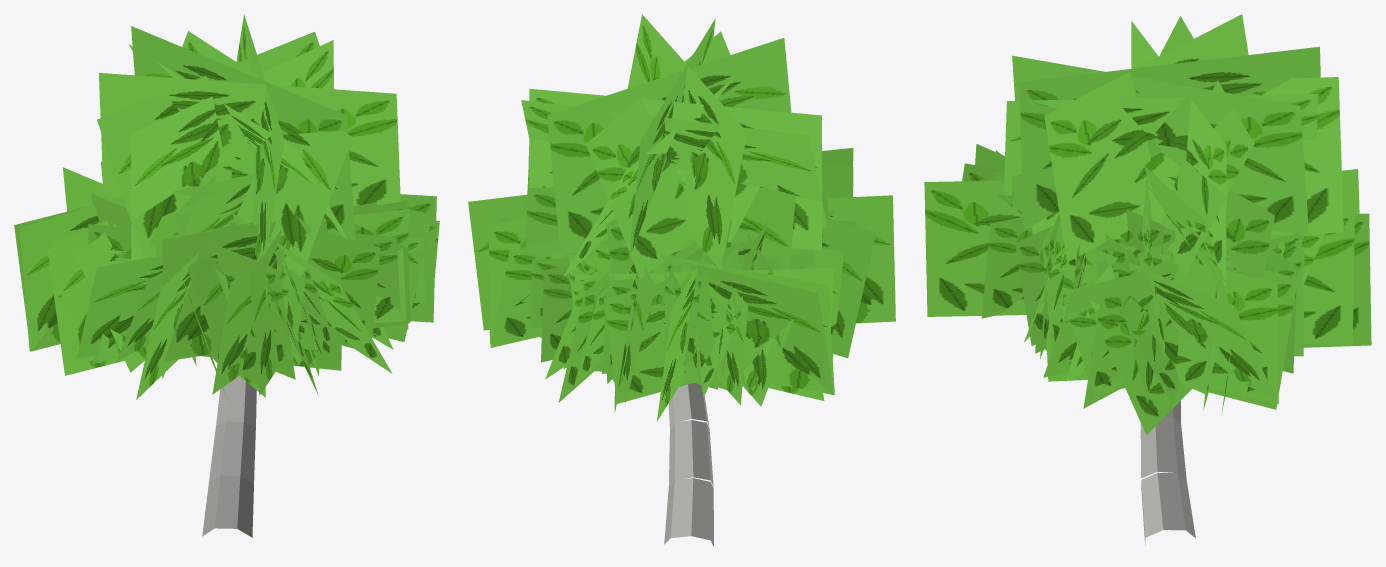
Rendered from abedul.glb.
The picture shows the model from 3 angles, left to right: view 1: azimuth 30°, elevation 25°; view 2: azimuth 150°, elevation 25°; view 3: azimuth 270°, elevation 25°; orthographic projection. The views are drawn at different scales.
Visible parts, largest first — view 1: abedul2; view 2: abedul2; view 3: abedul2.
Boxes of the visible parts, <box> form: abedul2: <box>14,14,439,537</box>; abedul2: <box>468,14,895,546</box>; abedul2: <box>924,14,1371,545</box>.
Size of the model in its own units: 5.57 by 6.79 by 5.68.
Materials: 2 (1 with a texture image).
